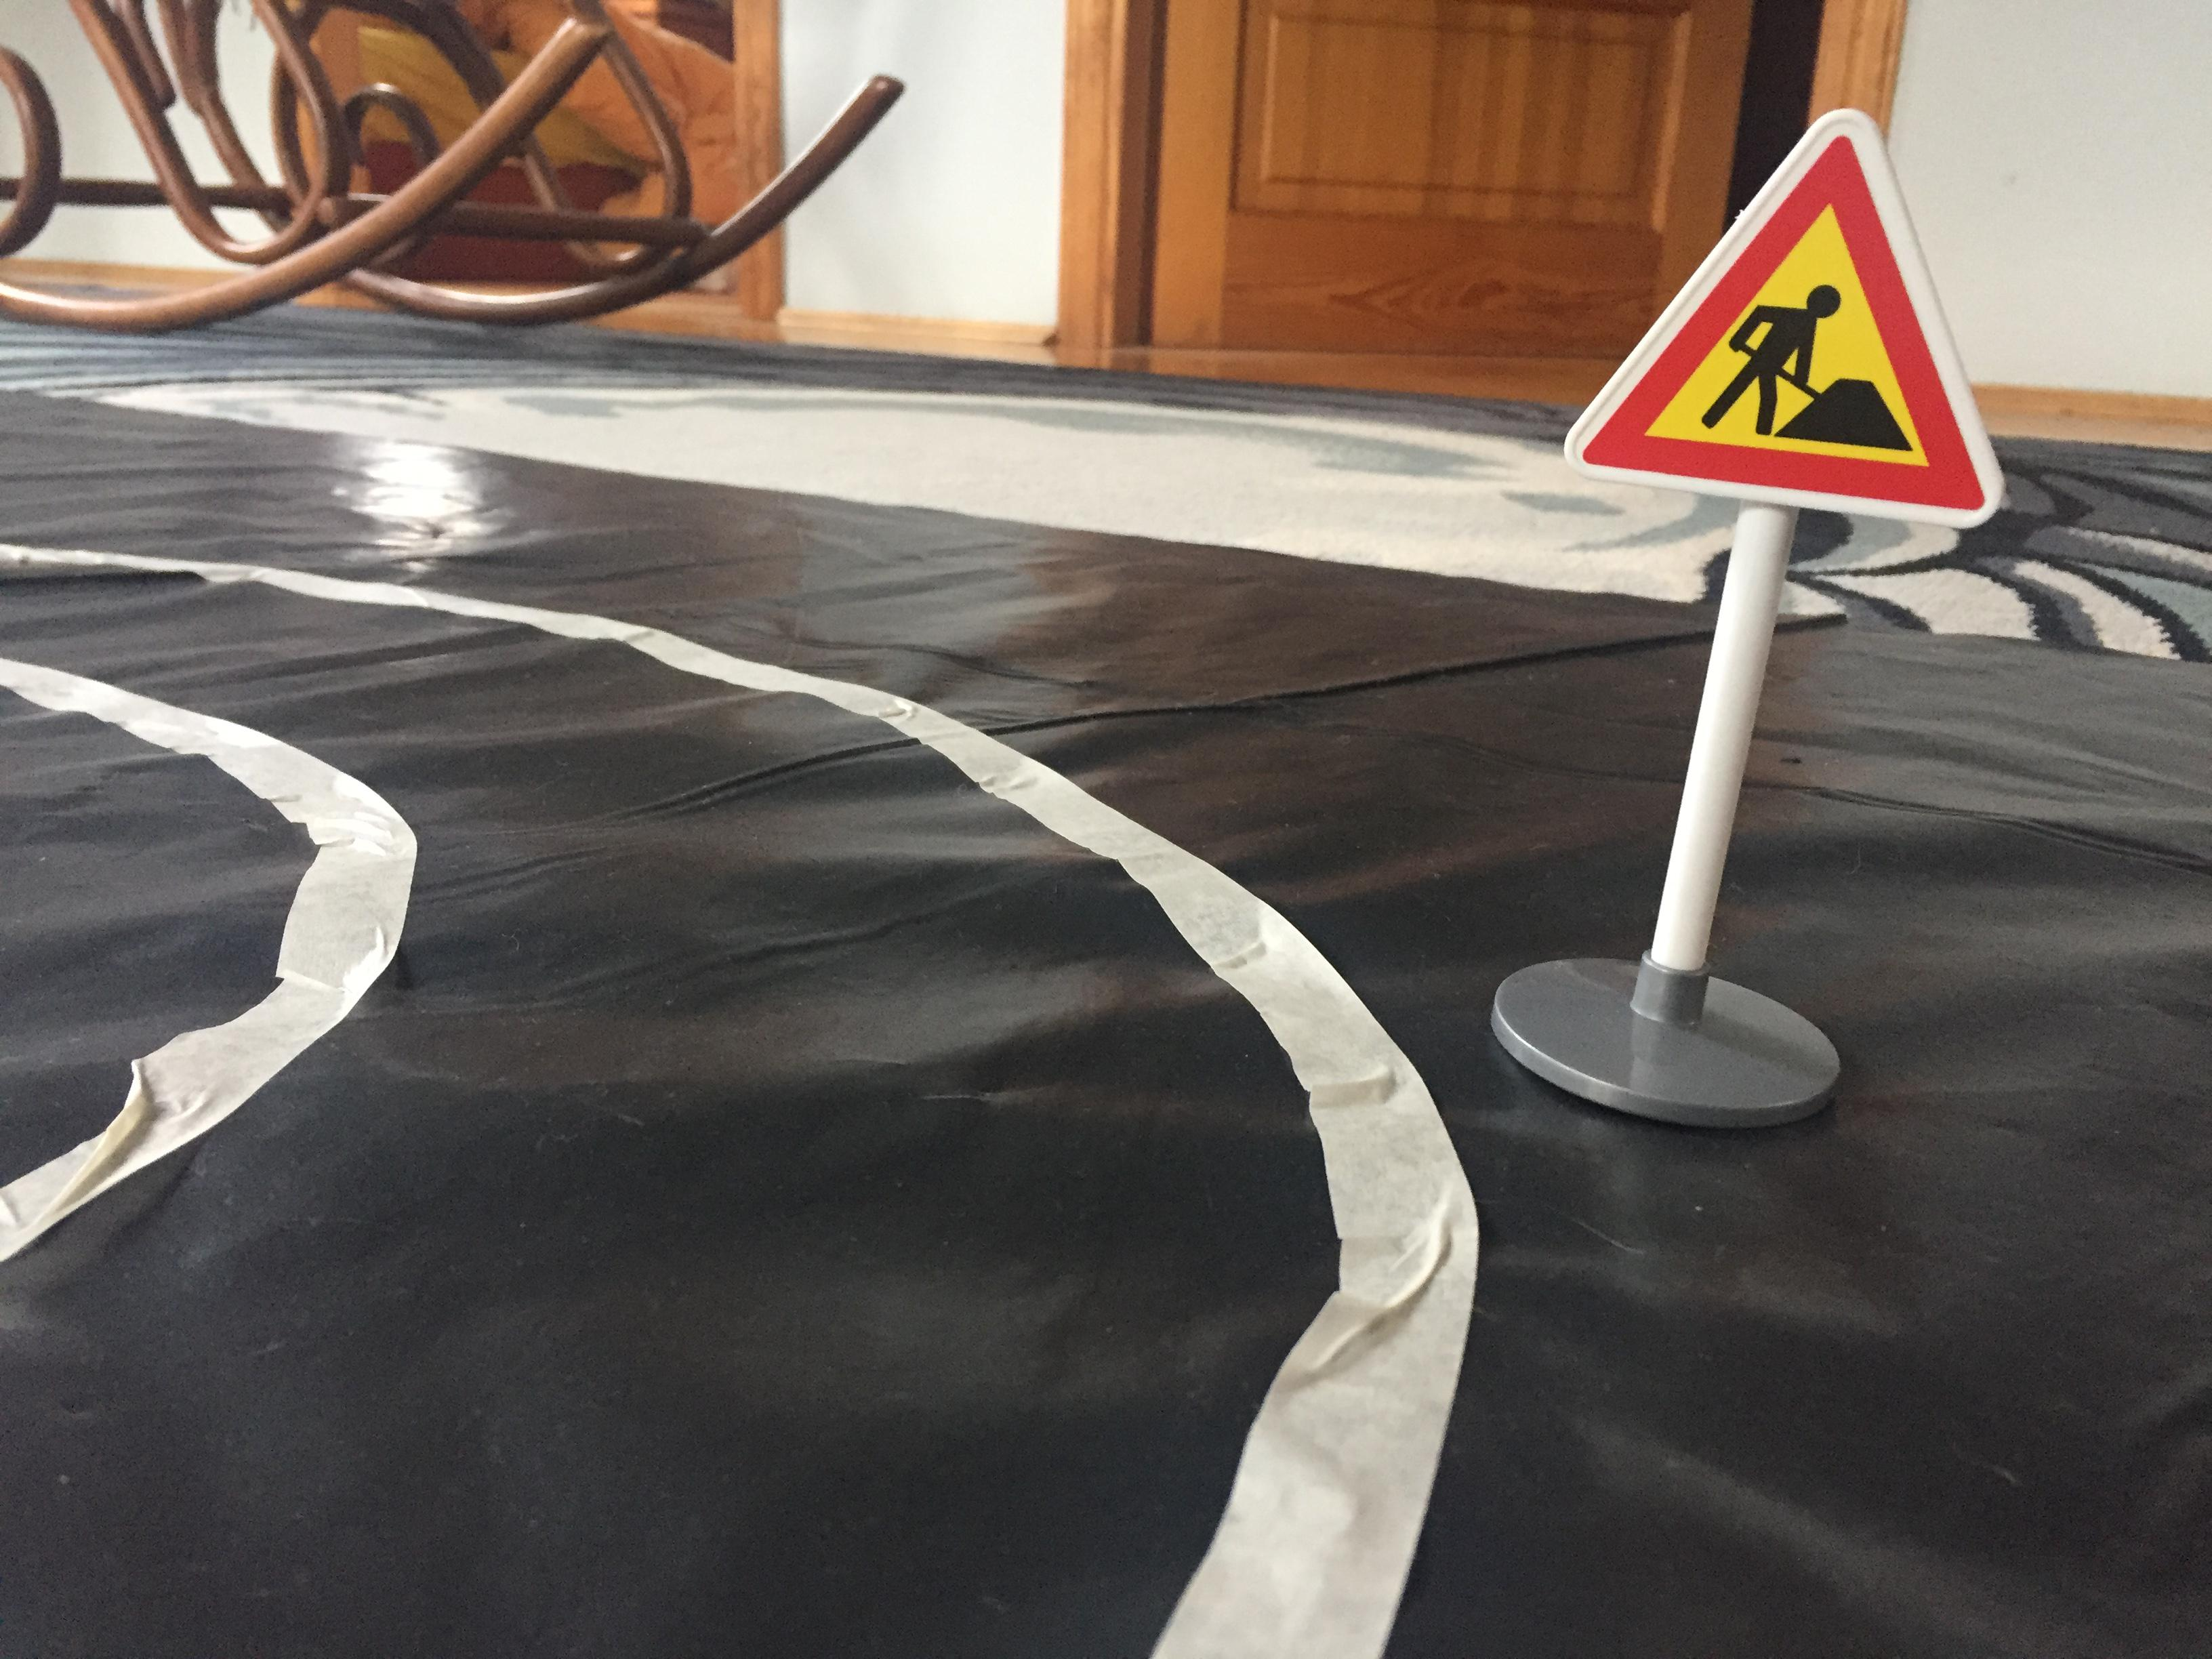work: (1545, 98, 2019, 545)
